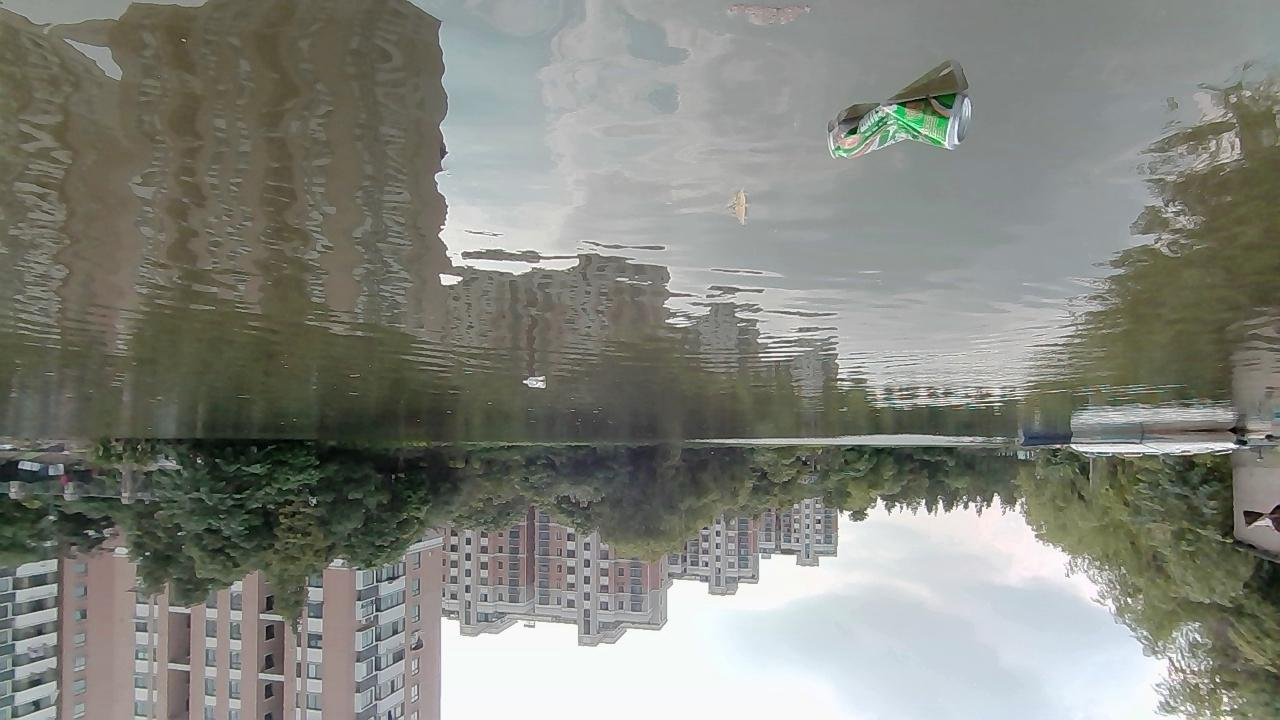Metal: (825, 89, 974, 162)
